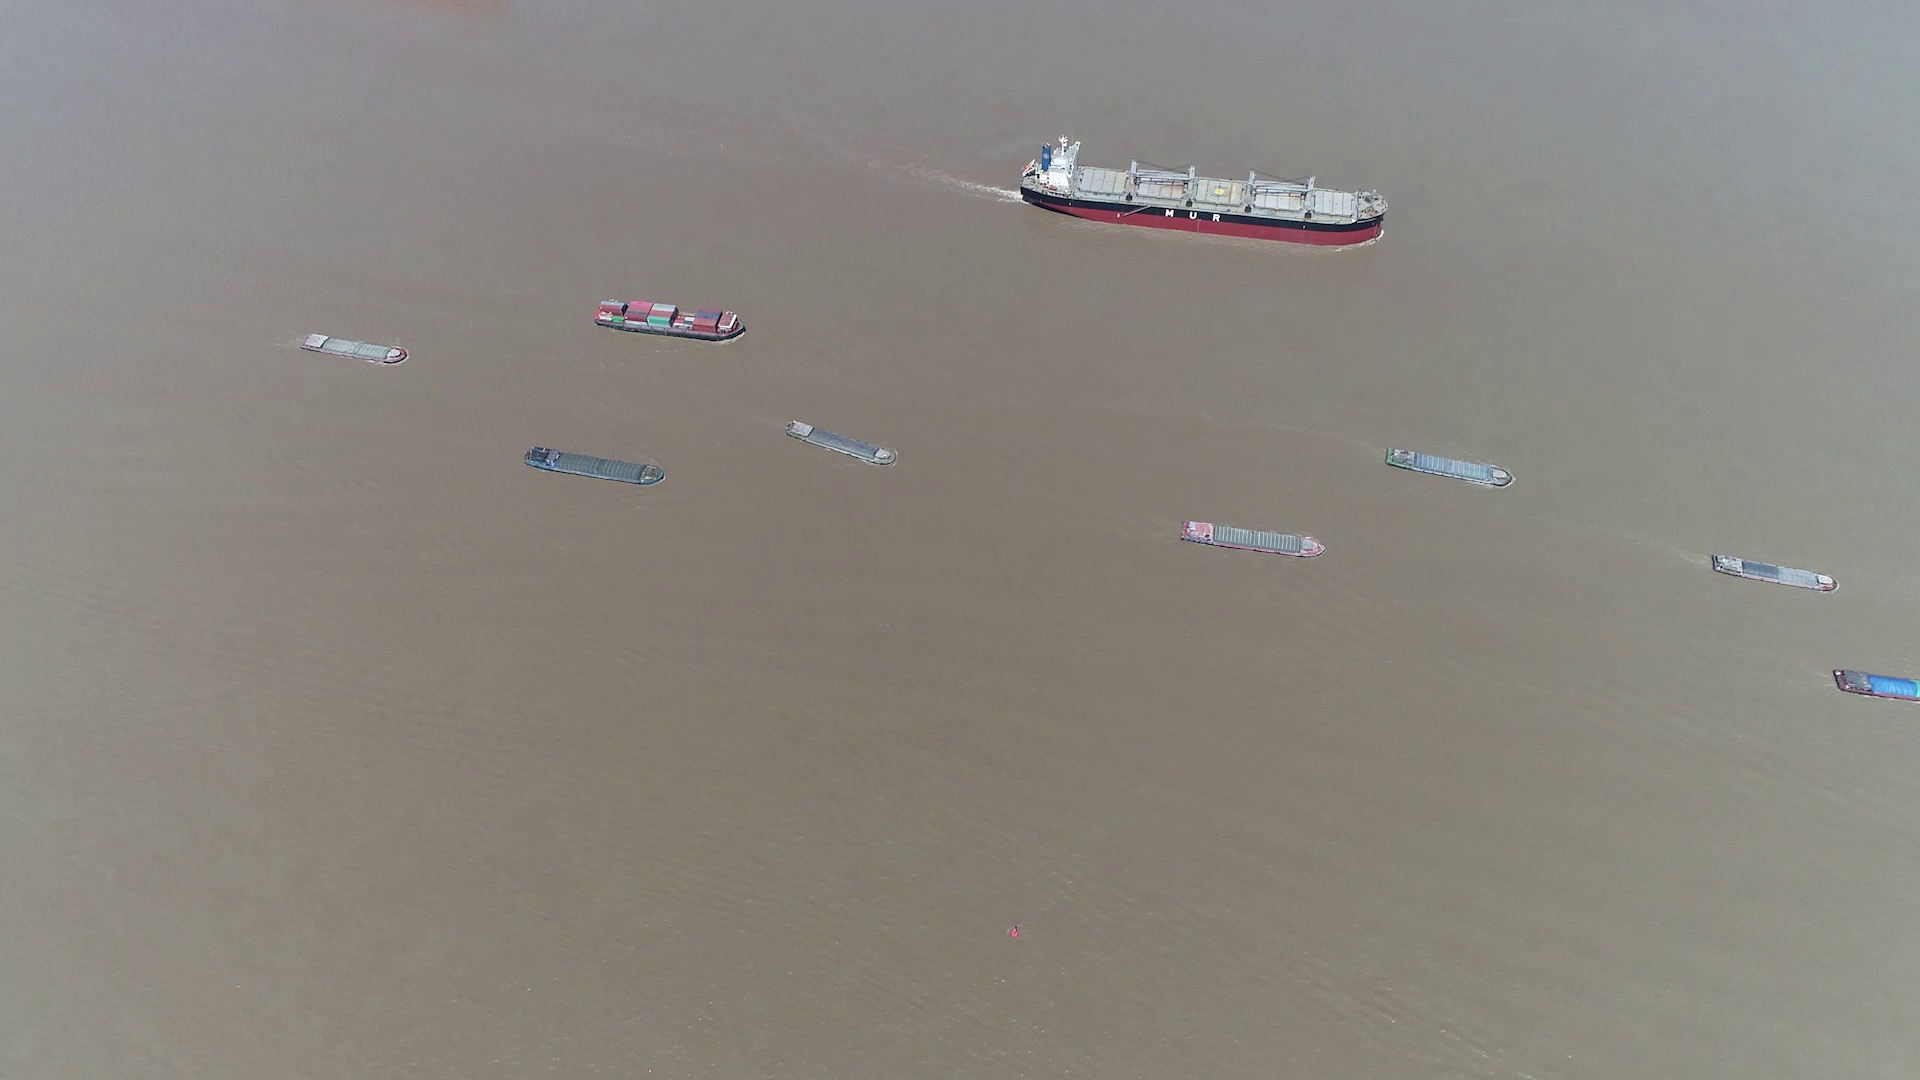ship: (1021, 142, 1387, 247), (592, 299, 746, 340), (524, 446, 666, 487), (1382, 444, 1514, 488), (1182, 521, 1327, 559), (785, 419, 897, 467), (1712, 553, 1838, 593), (301, 332, 410, 365), (1833, 669, 1917, 703)
